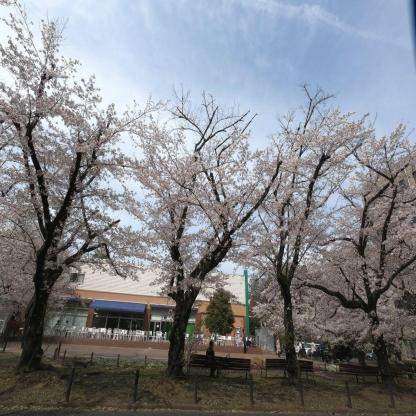Someiyoshino: (213, 102, 374, 356), (103, 84, 273, 309), (0, 1, 132, 288), (291, 118, 416, 392)
